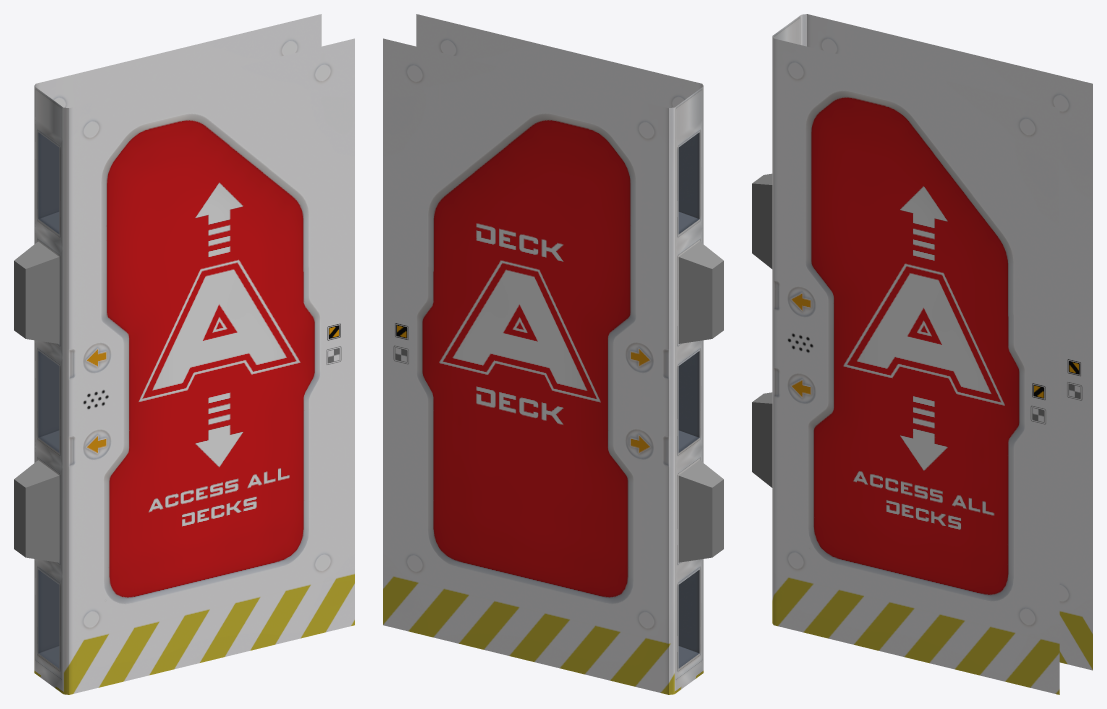
The model's file is Elevator_Door_right.fbx.
3 renders of one model, left to right at view 1: azimuth 30°, elevation 25°; view 2: azimuth 150°, elevation 25°; view 3: azimuth 330°, elevation 25°, orthographic.
Parts seen in each view (by area): view 1: Elevator_Door_right; view 2: Elevator_Door_right; view 3: Elevator_Door_right.
Boxes of the visible parts, box(x1,y1,x2,y2) form: Elevator_Door_right: box(14, 14, 354, 694); Elevator_Door_right: box(383, 14, 723, 694); Elevator_Door_right: box(752, 14, 1092, 694).
Size of the model in its own units: 176 by 310 by 32.
Materials: 2 (1 with a texture image).
